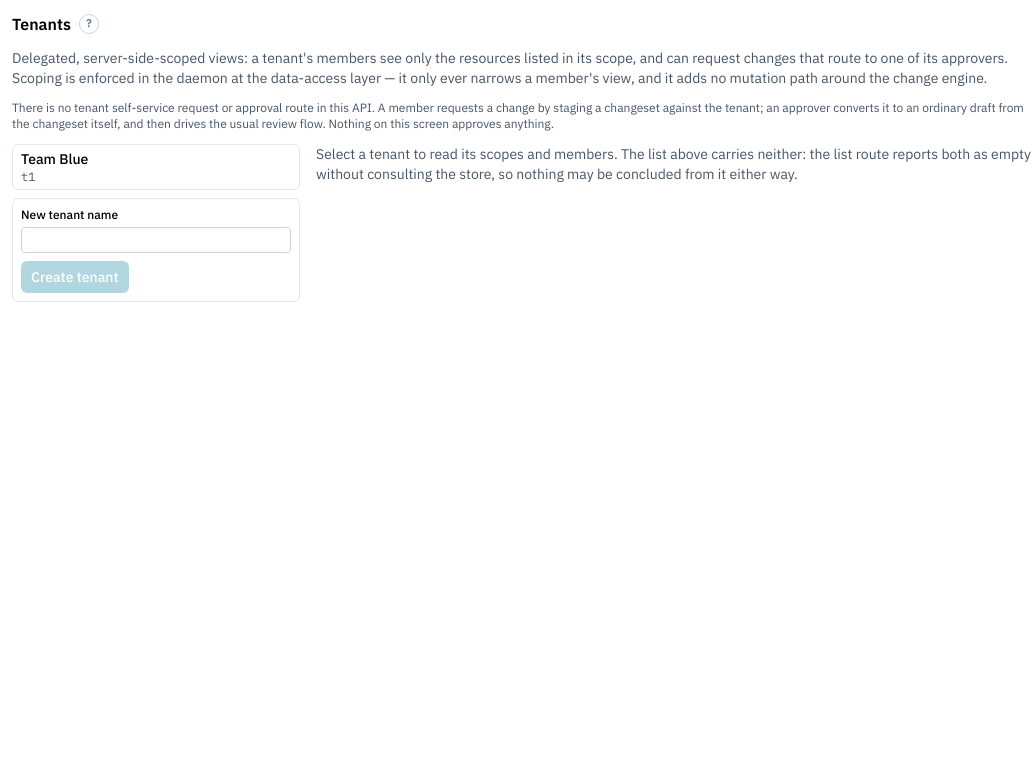
TenantsPanel (T-3002 AC3) › renders no ref the daemon did not give this session — the DOM, not the response
This screenshot has width=1036, height=780.
What coordinates should you click on to do the following:
click the button "Team Blue t1"
I would click on:
 (55, 159)
Its box is top-left (12, 144), bottom-right (300, 190).
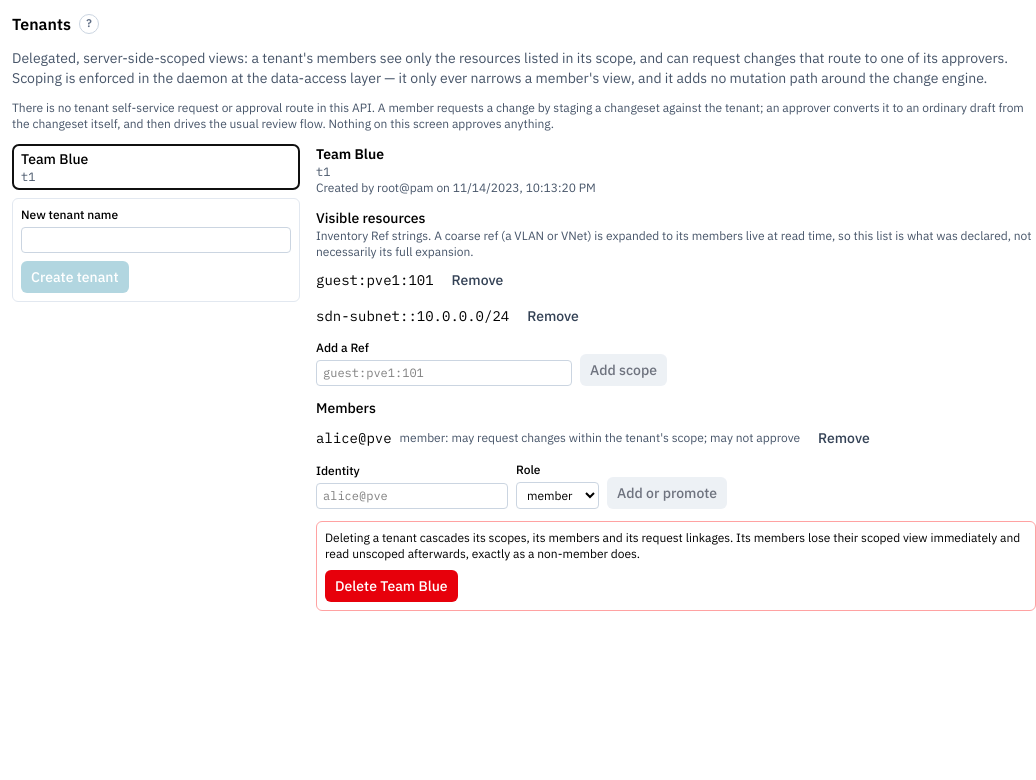
Check: the text "guest:pve1:101" is shown, box top-left (316, 270), bottom-right (434, 290)
